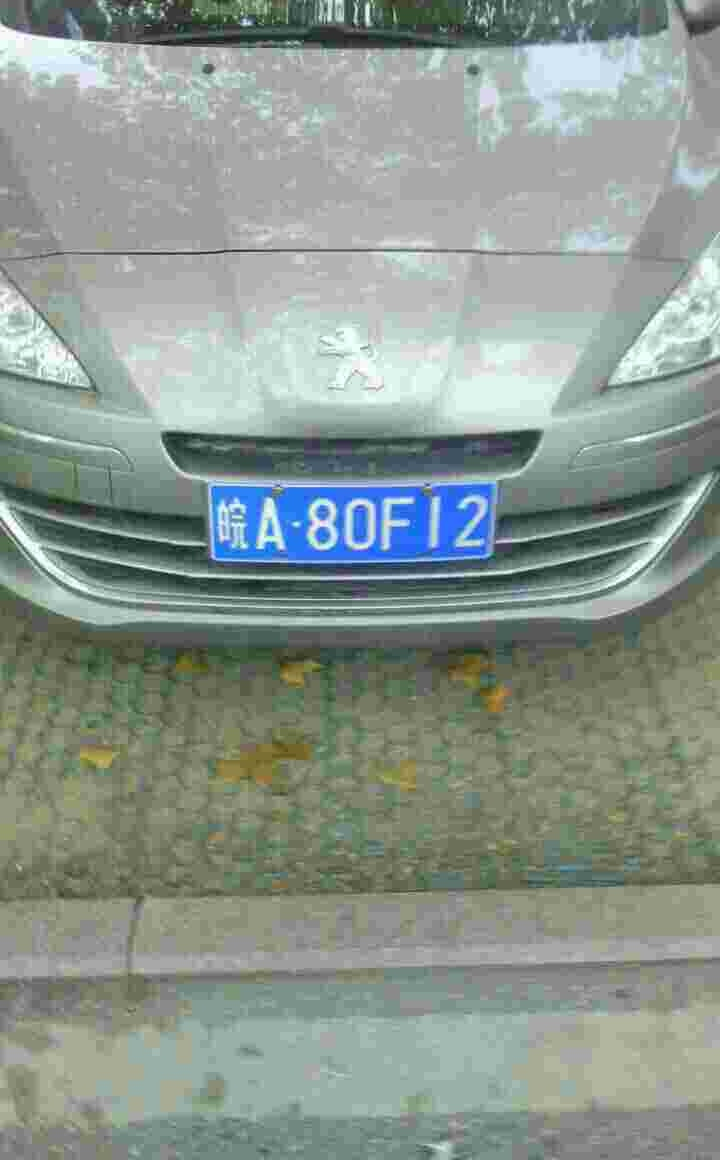license_plate: (200, 485, 509, 570)
